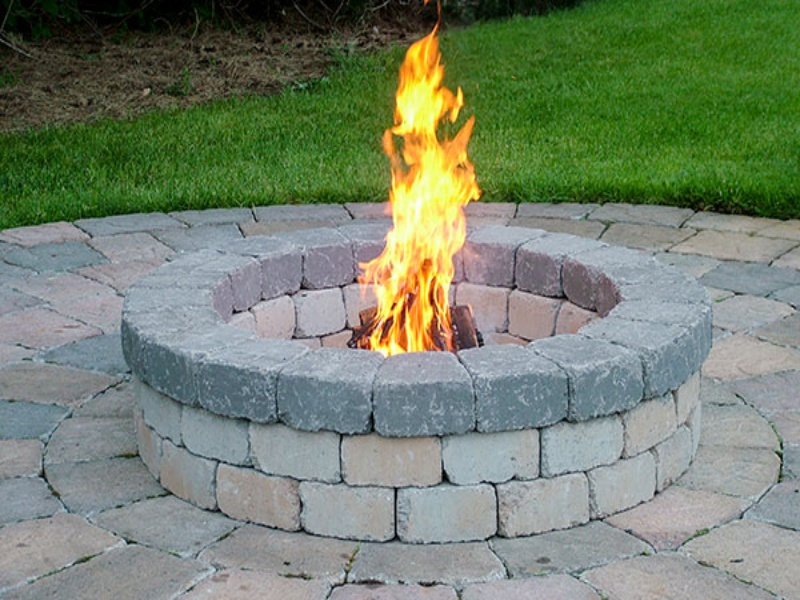fire: (358, 22, 480, 344)
